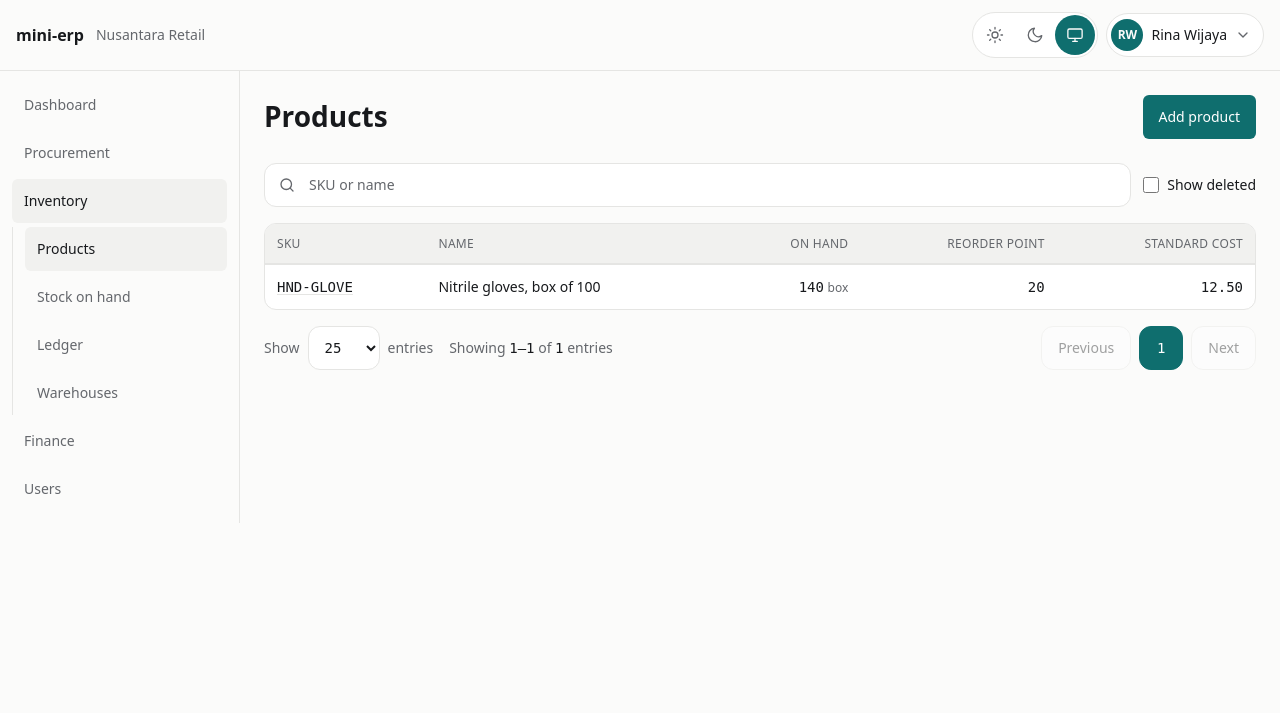
Scenario: FE22 — create, edit and delete for an admin; none of them for a viewer › products › offers create on the list and edit and delete on the detail route
Expected: the link "mini-erp" is shown, [16,23,84,47]
Expected: the link "Add product" is shown, [1143,95,1256,139]
Click the link "HND-GLOVE" at (315, 287), box [277,279,353,295]
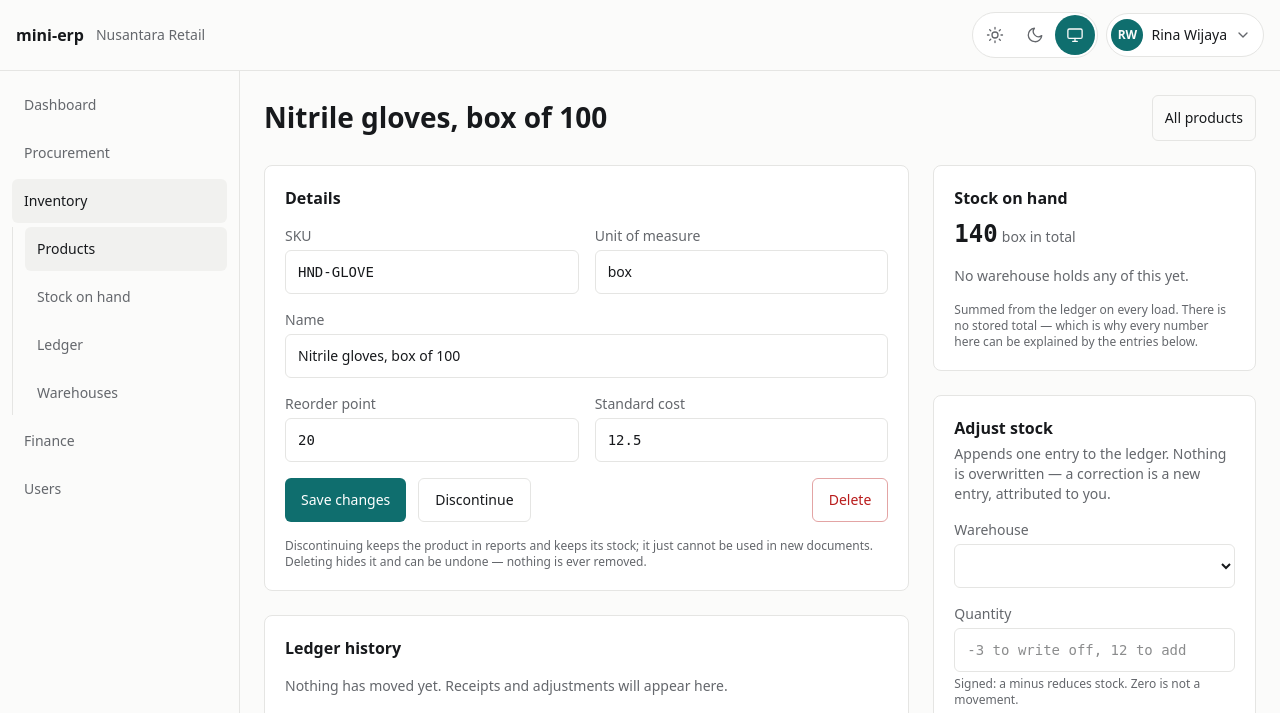
Expected: the button "Delete" is shown, [812,478,888,522]
Expected: the button "Save changes" is shown, [285,478,406,522]
Expected: the button "Discontinue" is shown, [418,478,531,522]
